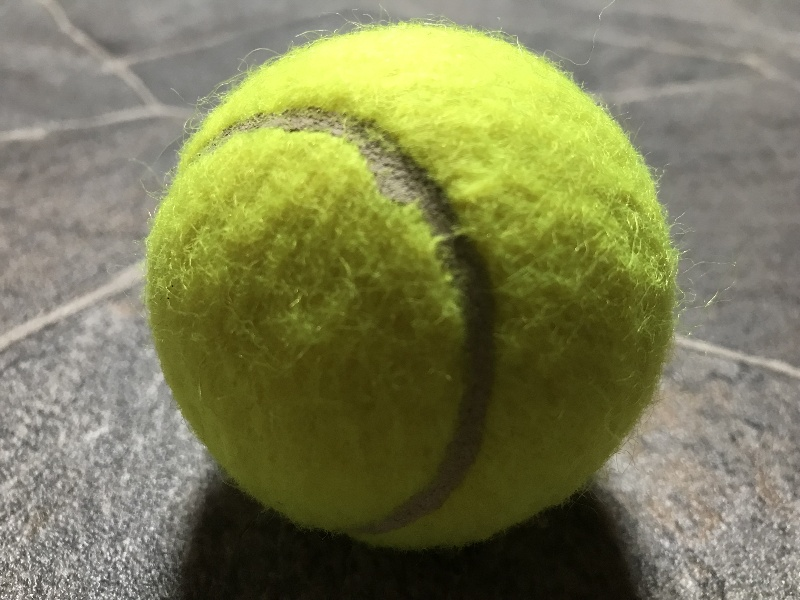Tennisball: (115, 1, 699, 568)
